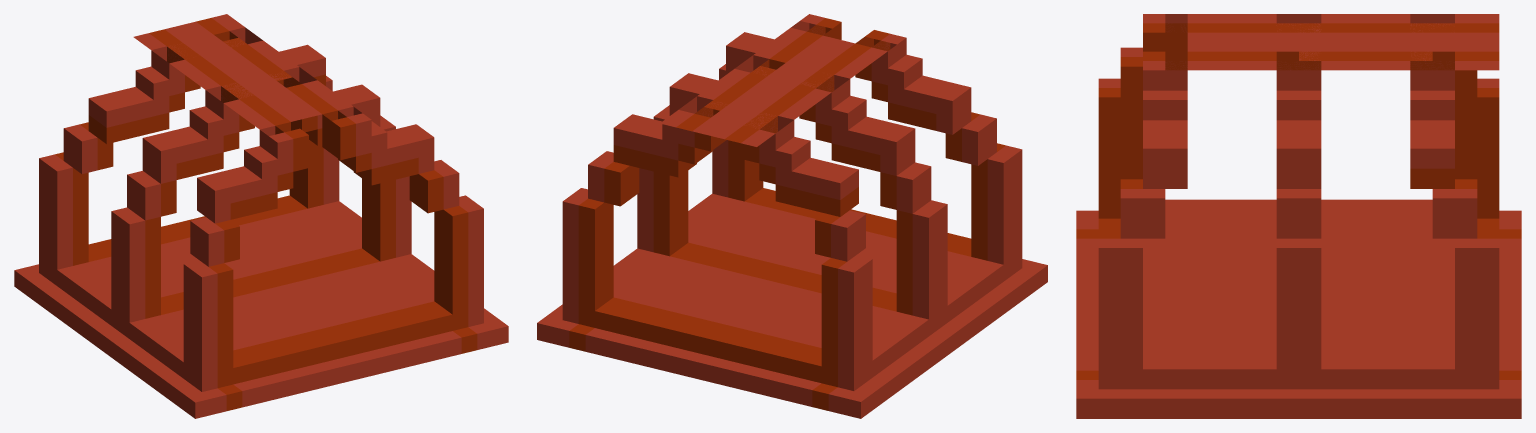
Rendered from iron3_hid_body.fbx.
3 views of the same model, side by side, from view 1: azimuth 30°, elevation 25°; view 2: azimuth 150°, elevation 25°; view 3: azimuth 270°, elevation 25° (orthographic). The views are drawn at different scales.
Visible parts, largest first — view 1: iron3_hid_body; view 2: iron3_hid_body; view 3: iron3_hid_body.
Boxes of the visible parts, x1,y1,x2,y2 form: iron3_hid_body: (14,14,508,418); iron3_hid_body: (537,14,1047,418); iron3_hid_body: (1076,14,1521,418).
Bounding box in the file's own units: 200 × 140 × 200.
